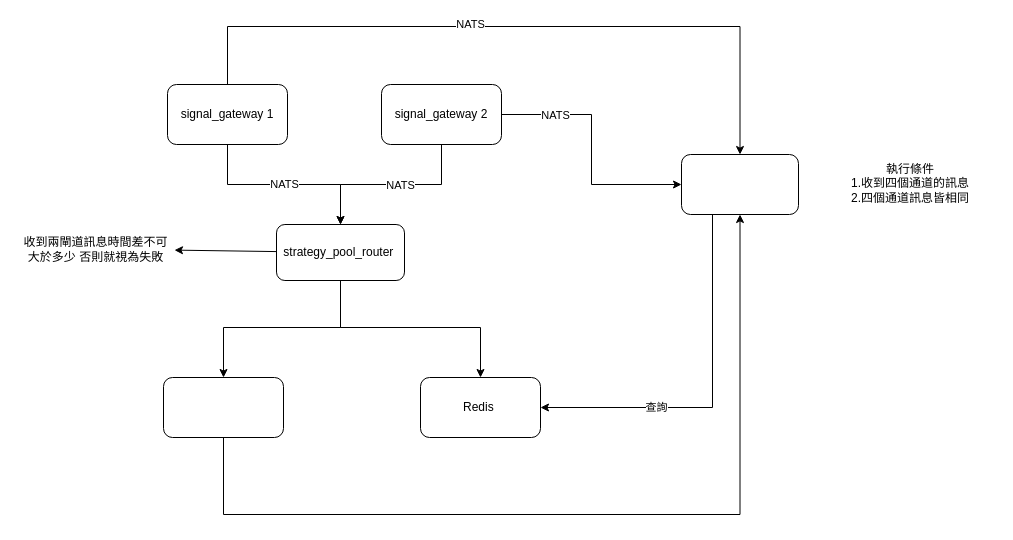
This 1013x540 diagram has some shape labels left out. Each missing label, with the centre of its shape:
"modules" belongs at (x=739, y=184).
"ZeroMQ" belongs at (x=223, y=407).
